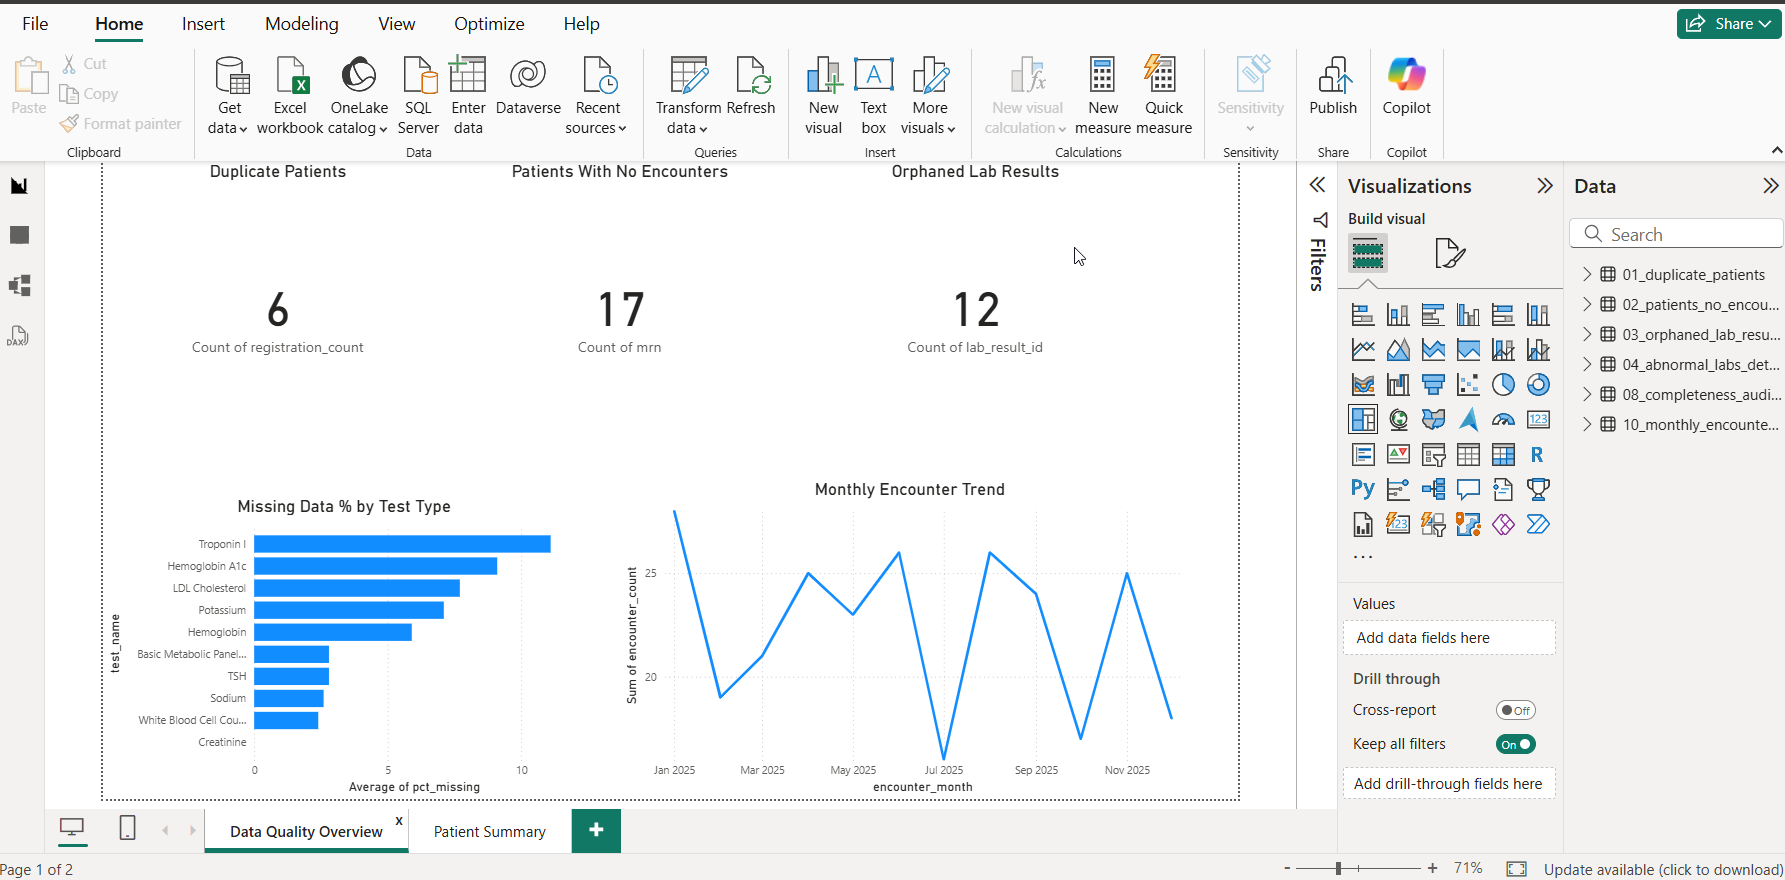

What the dashboard file says about the page in this screenshot:
{"tool":"powerbi","page":{"name":"Data Quality Overview","canvas":[1280,720],"ordinal":0},"visuals":[{"type":"card","title":"Duplicate Patients","fields":{"Values":["CountNonNull(01_duplicate_patients.registration_count)"]},"box":[9.9,0,375.2,320.2],"z":0},{"type":"card","title":"Patients With No Encounters","fields":{"Values":["CountNonNull(02_patients_no_encounters.mrn)"]},"box":[385.1,0,396.4,320.2],"z":1000},{"type":"card","title":"Orphaned Lab Results","fields":{"Values":["CountNonNull(03_orphaned_lab_results.lab_result_id)"]},"box":[781.5,0,406.3,320.2],"z":2000},{"type":"clusteredBarChart","title":"Missing Data % by Test Type","fields":{"Y":["Avg(08_completeness_audit_by_test.pct_missing)"],"Category":["08_completeness_audit_by_test.test_name"]},"box":[0,378.1,544.5,341.4],"z":3000},{"type":"lineChart","title":"Monthly Encounter Trend","fields":{"Category":["10_monthly_encounter_trend.encounter_month"],"Y":["Sum(10_monthly_encounter_trend.encounter_count)"]},"box":[584,359.7,653.1,359.7],"z":4000}]}

Visuals, with their boxes on the page's 1280x720 design canvas (x1, y1, x2, y2). These are canvas units, not pixel positions in the 1785x880 screenshot, which may show the page scaled, cropped or inside an application window:
"Duplicate Patients" card: 10 0 385 320
"Patients With No Encounters" card: 385 0 782 320
"Orphaned Lab Results" card: 782 0 1188 320
"Missing Data % by Test Type" clusteredBarChart: 0 378 544 720
"Monthly Encounter Trend" lineChart: 584 360 1237 719
